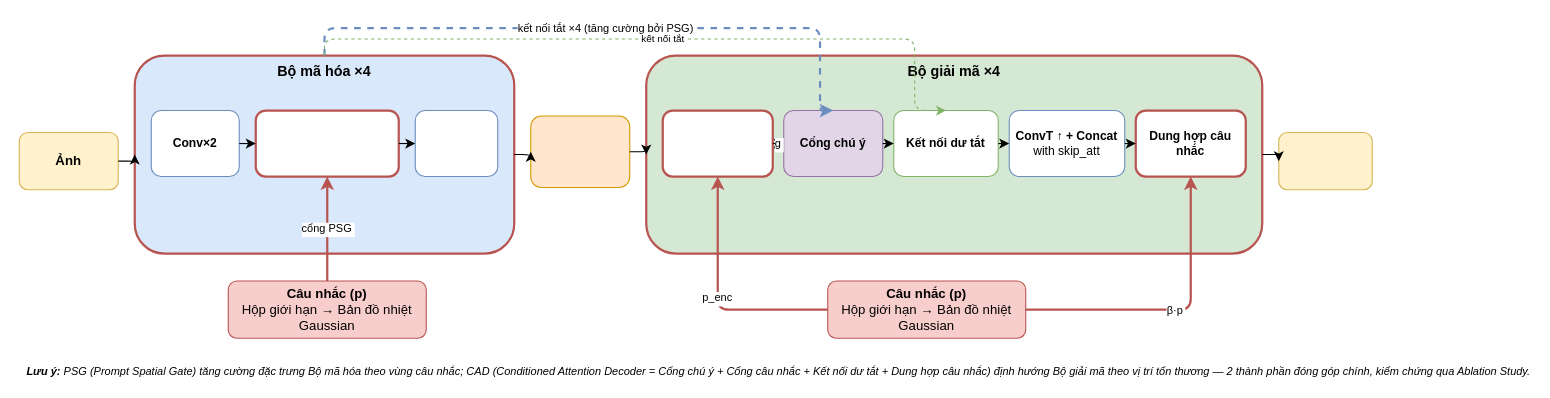
Image size: 1550x398. Some labels were removed from this diagram. Here are the shapes that lost their labels. From the top down, the centre of each, then its label:
At (x=326, y=143): "Co giãn PSG".
At (x=456, y=143): "MaxPool ↓".
At (x=580, y=151): "Nút thắt".
At (x=717, y=143): "Cổng câu nhắc".
At (x=1325, y=160): "Mặt nạ 1 kênh".
